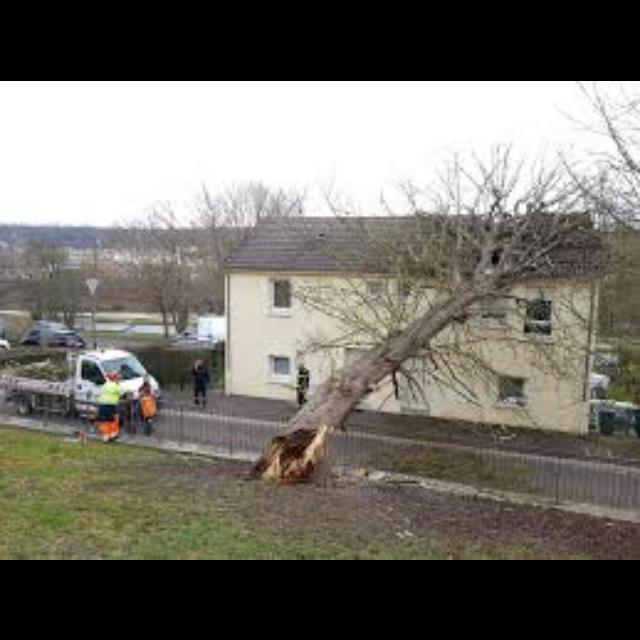Fallen Tree: (243, 276, 501, 488)
